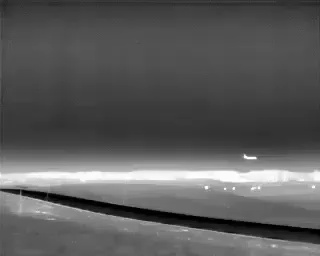AIRPLANE: (242, 151, 259, 163)
